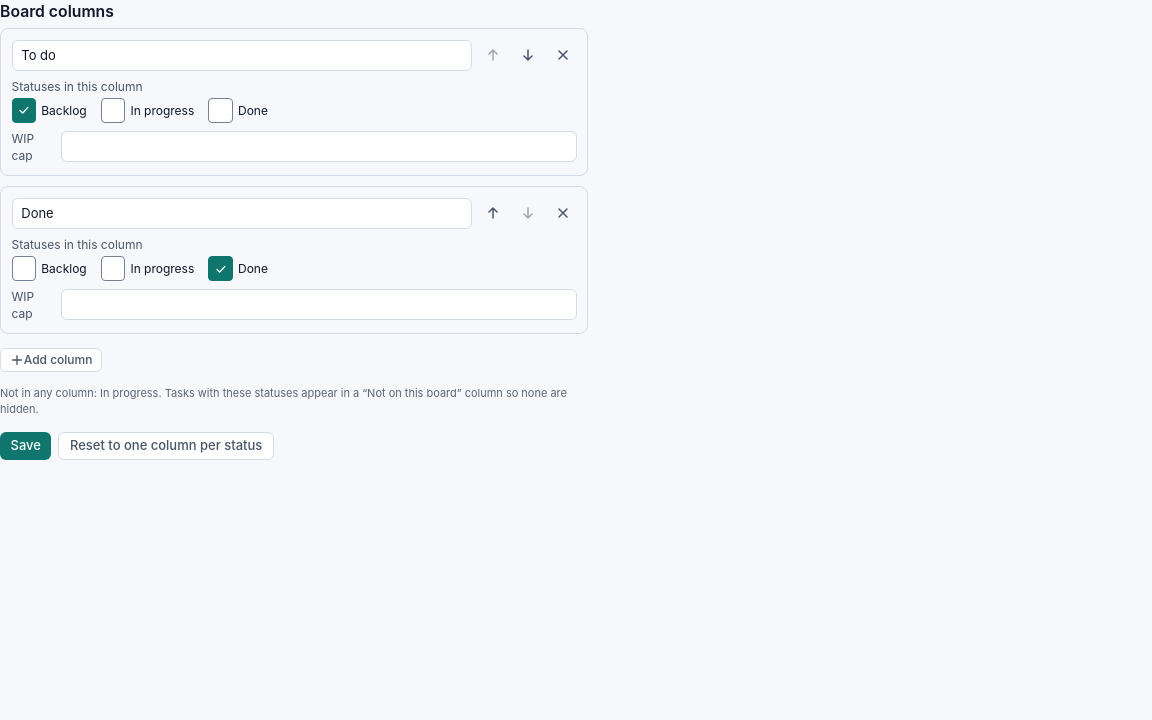
Test case: BoardColumnsPanel › does not reset without confirming — clicking Reset alone PUTs nothing
This screenshot has width=1152, height=720.
Expected: the list with test id "board-columns-list" is shown, [0,28,588,334]
What coordinates should you click on to do the following:
click the button with test id "board-columns-reset"
I would click on:
 (166, 446)
Its box is [58,432,274,460].
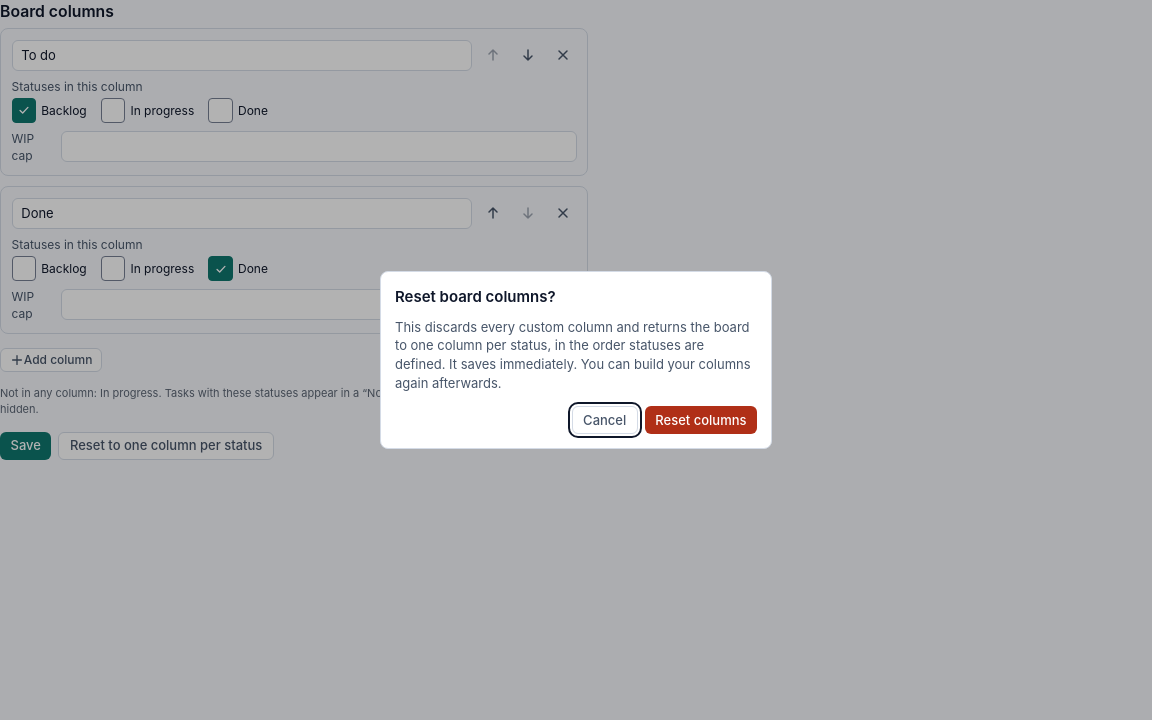
Expected: the element with test id "board-columns-reset-confirm" is shown, [395,318,757,434]
